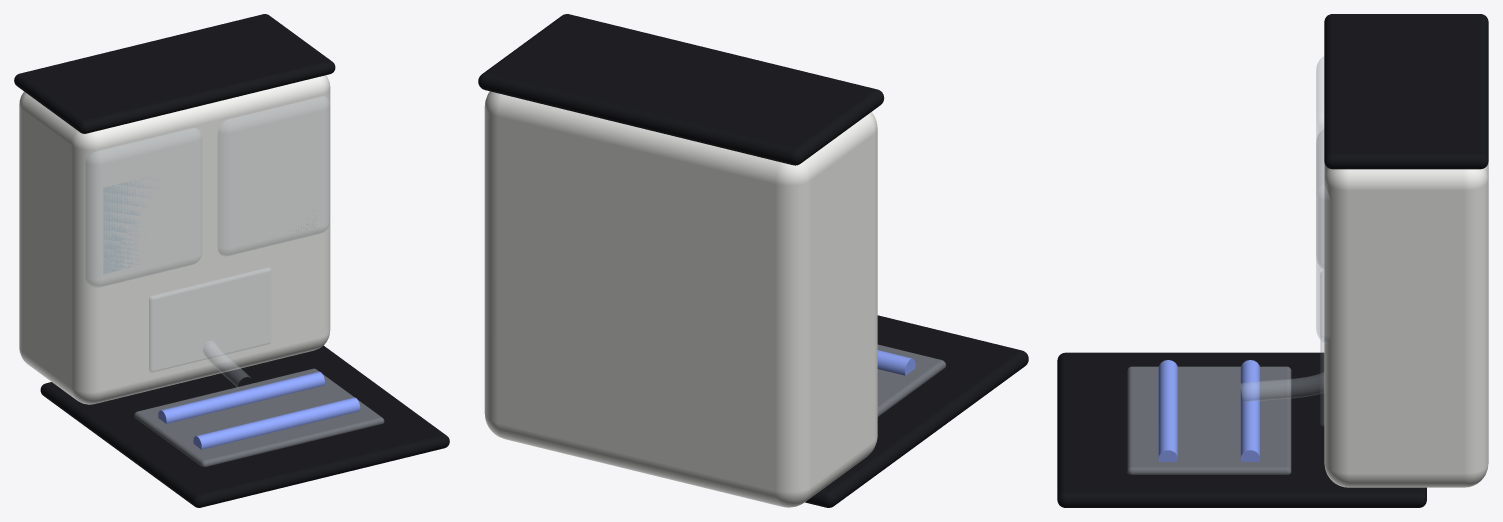
File: vacuumDockPro.glb
The picture shows the model from 3 angles, left to right: view 1: azimuth 30°, elevation 25°; view 2: azimuth 150°, elevation 25°; view 3: azimuth 270°, elevation 25°; orthographic projection. The views are drawn at different scales.
Visible parts, largest first — view 1: towerBody, ramp, tower, cleanTank, dirtyTank, bagWindow, washTray, brushRoller, brushRoller0, cleanWater, dustPath; view 2: towerBody, tower, ramp, washTray, brushRoller; view 3: towerBody, ramp, tower, washTray, dirtyTank, brushRoller0, brushRoller, cleanTank, dustPath, bagWindow.
Part boxes in pixels (<box>): towerBody: <box>19,75,330,404</box>; ramp: <box>40,345,449,507</box>; tower: <box>14,14,335,133</box>; cleanTank: <box>86,128,201,287</box>; dirtyTank: <box>218,96,329,255</box>; bagWindow: <box>149,267,270,372</box>; washTray: <box>134,368,384,466</box>; brushRoller: <box>193,397,360,449</box>; brushRoller0: <box>158,371,324,423</box>; cleanWater: <box>103,178,151,273</box>; dustPath: <box>203,341,250,388</box>; towerBody: <box>484,91,877,507</box>; tower: <box>478,14,884,165</box>; ramp: <box>805,315,1028,507</box>; washTray: <box>877,344,945,416</box>; brushRoller: <box>877,350,915,375</box>; towerBody: <box>1324,162,1488,487</box>; ramp: <box>1057,352,1426,507</box>; tower: <box>1324,14,1488,169</box>; washTray: <box>1127,366,1291,474</box>; dirtyTank: <box>1316,129,1329,343</box>; brushRoller0: <box>1240,360,1260,461</box>; brushRoller: <box>1158,360,1177,461</box>; cleanTank: <box>1316,56,1323,269</box>; dustPath: <box>1241,372,1323,402</box>; bagWindow: <box>1320,271,1323,425</box>.
Bounding box in the file's own units: 0.42 × 0.475 × 0.525.
